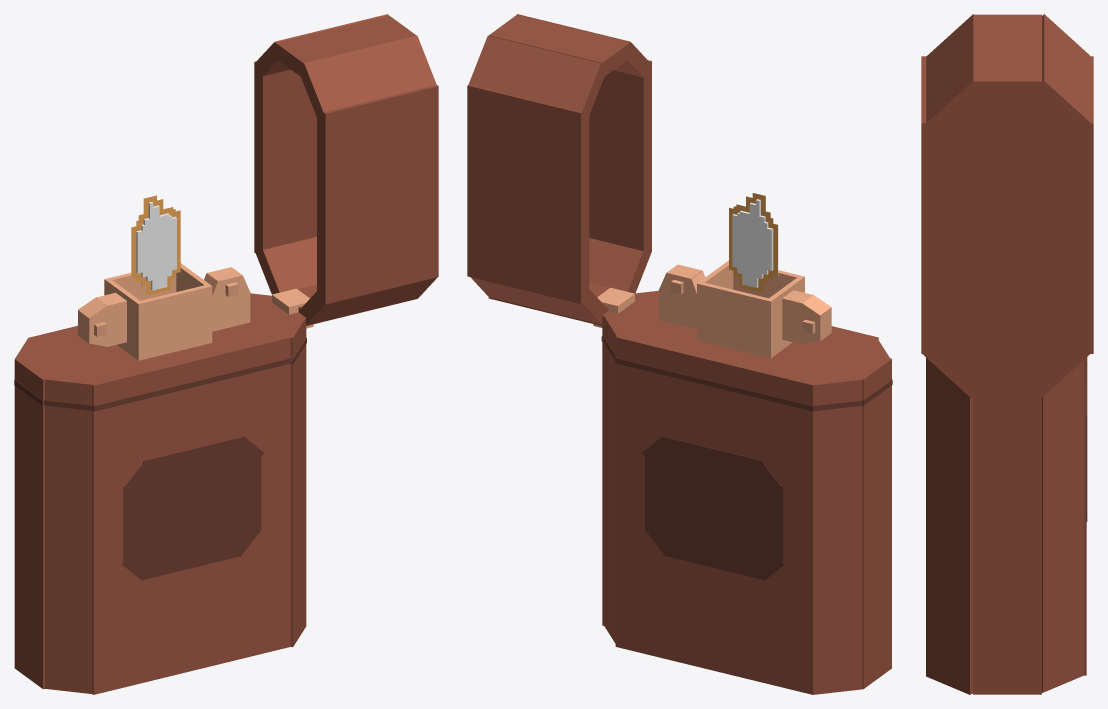
File: lighter.glb
3 views of the same model, side by side, from view 1: azimuth 30°, elevation 25°; view 2: azimuth 150°, elevation 25°; view 3: azimuth 270°, elevation 25° (orthographic). The views are drawn at different scales.
Visible parts, largest first — view 1: cube_15, cube_61, cube_2, cube_5, cube_62, cube_7, cube_57, cube_9, cube_4, cube_16, cube_56, cube_59 (+15 smaller); view 2: cube_0, cube_62, cube_1, cube_5, cube_61, cube_42, cube_58, cube_41, cube_17, cube_15, cube_3, cube_56 (+16 smaller); view 3: cube_6, cube_67, cube_4, cube_3, cube_63, cube_65, cube_66, cube_64, cube_56, cube_68, cube_61, cube_62 (+6 smaller).
Part boxes in pixels (x1=…): cube_15: x1=50, y1=308, x2=290, y2=694; cube_61: x1=317, y1=84, x2=438, y2=304; cube_2: x1=43, y1=368, x2=99, y2=694; cube_5: x1=14, y1=304, x2=281, y2=689; cube_62: x1=254, y1=61, x2=316, y2=258; cube_7: x1=143, y1=437, x2=241, y2=564; cube_57: x1=301, y1=35, x2=436, y2=120; cube_9: x1=138, y1=453, x2=261, y2=559; cube_4: x1=260, y1=313, x2=306, y2=647; cube_16: x1=135, y1=284, x2=212, y2=360; cube_56: x1=275, y1=15, x2=416, y2=78; cube_59: x1=256, y1=237, x2=316, y2=294; cube_0: x1=615, y1=331, x2=820, y2=694; cube_62: x1=467, y1=85, x2=589, y2=303; cube_1: x1=806, y1=368, x2=862, y2=694; cube_5: x1=617, y1=298, x2=891, y2=689; cube_61: x1=589, y1=60, x2=651, y2=253; cube_42: x1=645, y1=453, x2=768, y2=560; cube_58: x1=468, y1=35, x2=606, y2=120; cube_41: x1=664, y1=437, x2=763, y2=564; cube_17: x1=697, y1=281, x2=773, y2=358; cube_15: x1=622, y1=321, x2=878, y2=380; cube_3: x1=604, y1=315, x2=633, y2=643; cube_56: x1=489, y1=15, x2=630, y2=77; cube_6: x1=973, y1=399, x2=1041, y2=694; cube_67: x1=921, y1=117, x2=1093, y2=353; cube_4: x1=926, y1=357, x2=972, y2=694; cube_3: x1=1042, y1=360, x2=1083, y2=692; cube_63: x1=923, y1=75, x2=1090, y2=234; cube_65: x1=924, y1=244, x2=1080, y2=397; cube_66: x1=929, y1=248, x2=1088, y2=397; cube_64: x1=926, y1=76, x2=1089, y2=230; cube_56: x1=973, y1=14, x2=1041, y2=100; cube_68: x1=973, y1=75, x2=1041, y2=380; cube_61: x1=921, y1=56, x2=941, y2=353; cube_62: x1=1073, y1=56, x2=1093, y2=353.
Size of the model in its own units: 0.4756 by 0.6819 by 0.1563.
1 material, 1 textured.
